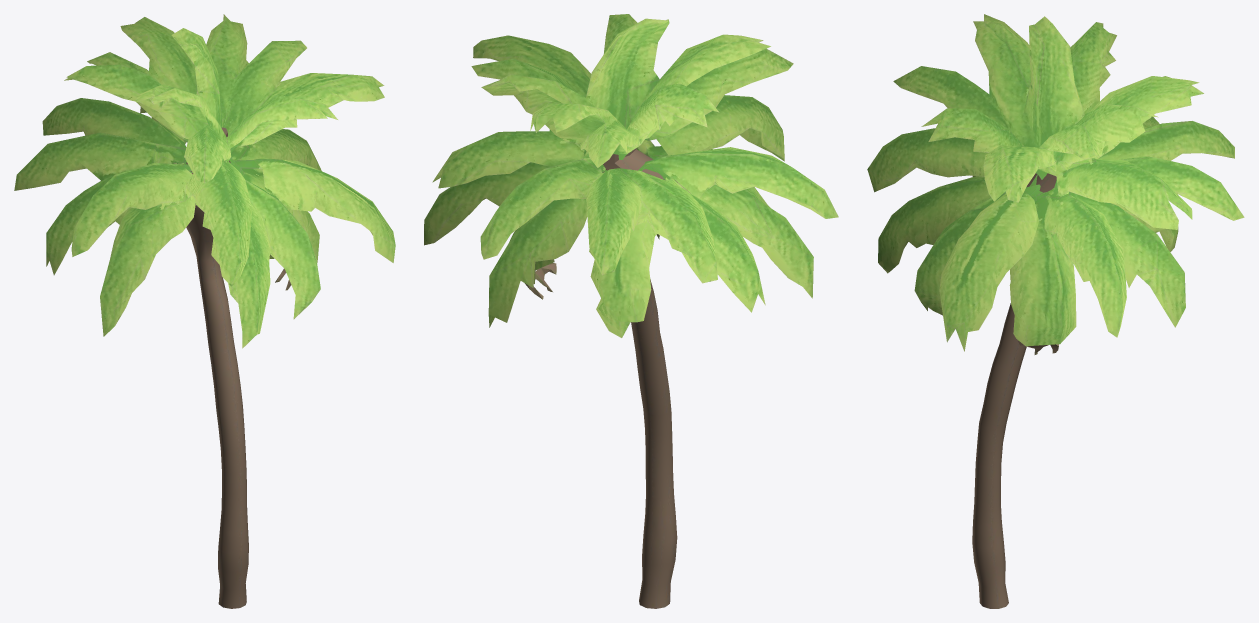
Rendered from palm_a.glb.
The picture shows the model from 3 angles, left to right: view 1: azimuth 30°, elevation 25°; view 2: azimuth 150°, elevation 25°; view 3: azimuth 270°, elevation 25°; orthographic projection. The views are drawn at different scales.
Visible parts, largest first — view 1: body; view 2: body; view 3: body.
Part boxes in pixels (x1,y1,x2,y2): body: (14, 14, 395, 608); body: (424, 14, 838, 608); body: (867, 14, 1244, 608).
Size of the model in its own units: 5.14 by 8.5 by 5.1.
Materials: 2 (2 with a texture image).
